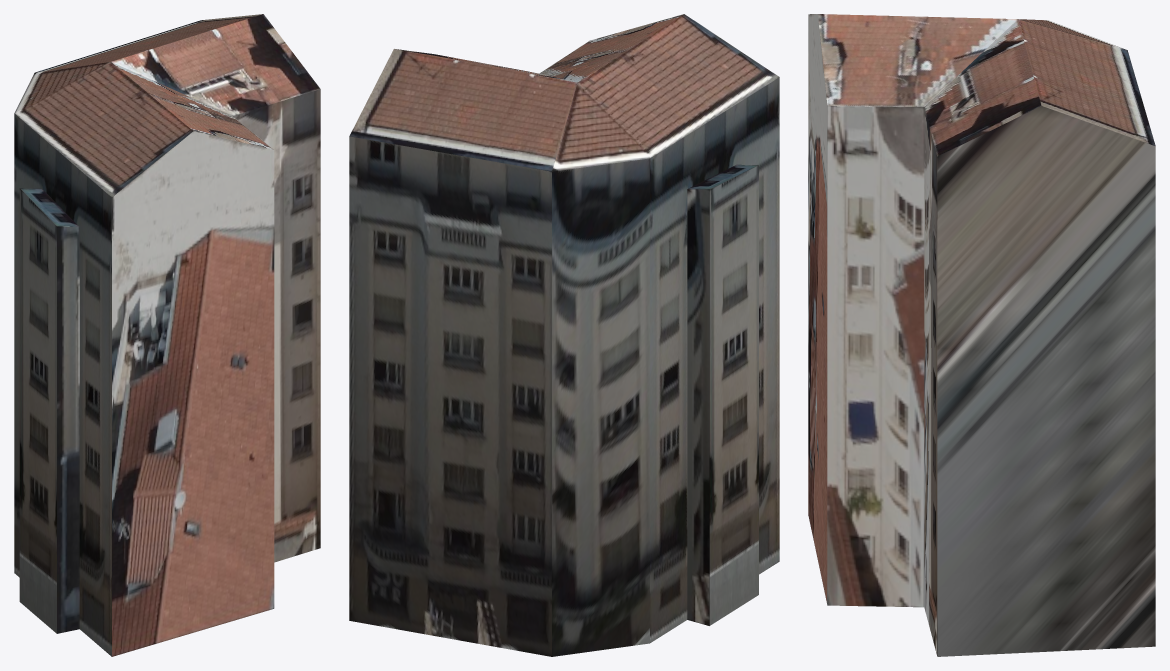
3 renders of one model, left to right at view 1: azimuth 30°, elevation 25°; view 2: azimuth 150°, elevation 25°; view 3: azimuth 270°, elevation 25°, orthographic. The views are drawn at different scales.
Visible parts, largest first — view 1: Z_UP; view 2: Z_UP; view 3: Z_UP.
Boxes of the visible parts, <box> form: Z_UP: <box>14,14,320,656</box>; Z_UP: <box>349,14,779,656</box>; Z_UP: <box>808,14,1155,656</box>.
Size of the model in its own units: 15.92 by 26.72 by 15.41.
Materials: 2 (1 with a texture image).
